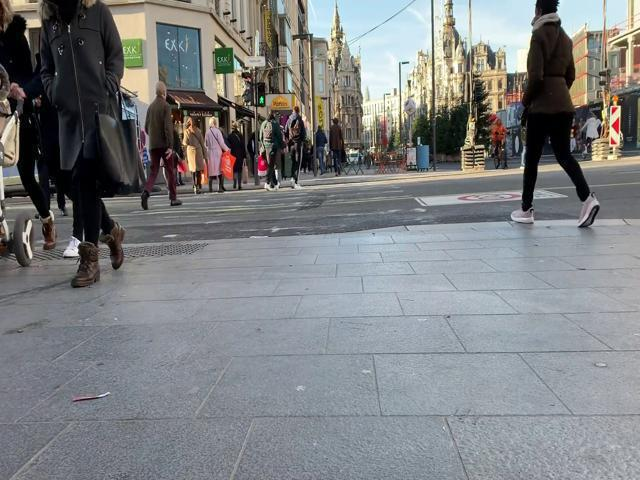shoe: (71, 241, 100, 287), (101, 222, 125, 269), (578, 193, 600, 228), (42, 216, 56, 249), (511, 207, 534, 223), (141, 189, 150, 210)
